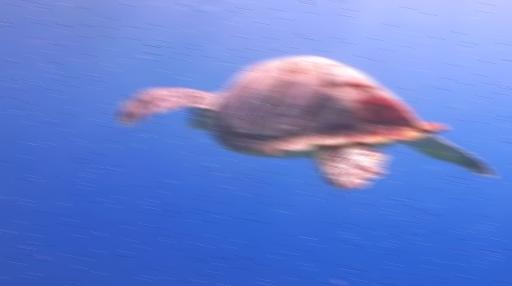Fish: (120, 57, 493, 188)
